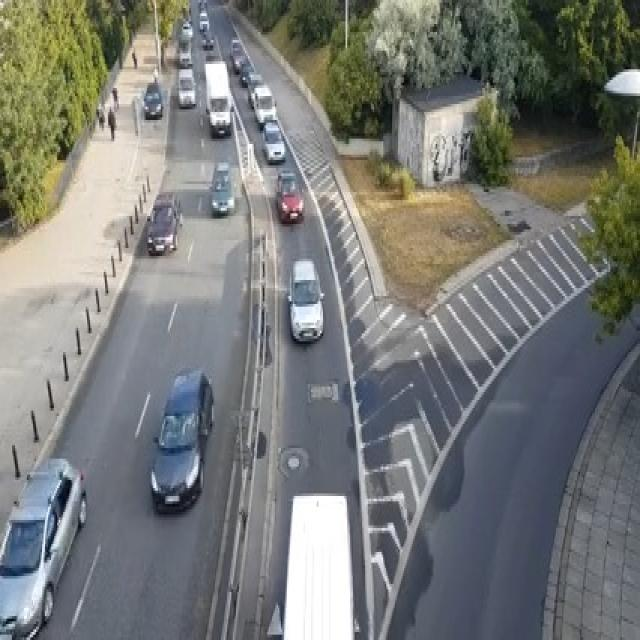car: (0, 456, 86, 637), (150, 368, 213, 512), (287, 256, 324, 341), (146, 192, 182, 253), (275, 168, 303, 221), (209, 160, 234, 213), (252, 83, 276, 128), (262, 120, 286, 163), (209, 93, 231, 136), (178, 66, 195, 106), (143, 83, 162, 117), (246, 72, 263, 107), (230, 37, 246, 72), (239, 61, 254, 85), (179, 48, 192, 67), (198, 11, 209, 32), (202, 32, 214, 48), (182, 19, 192, 37)
